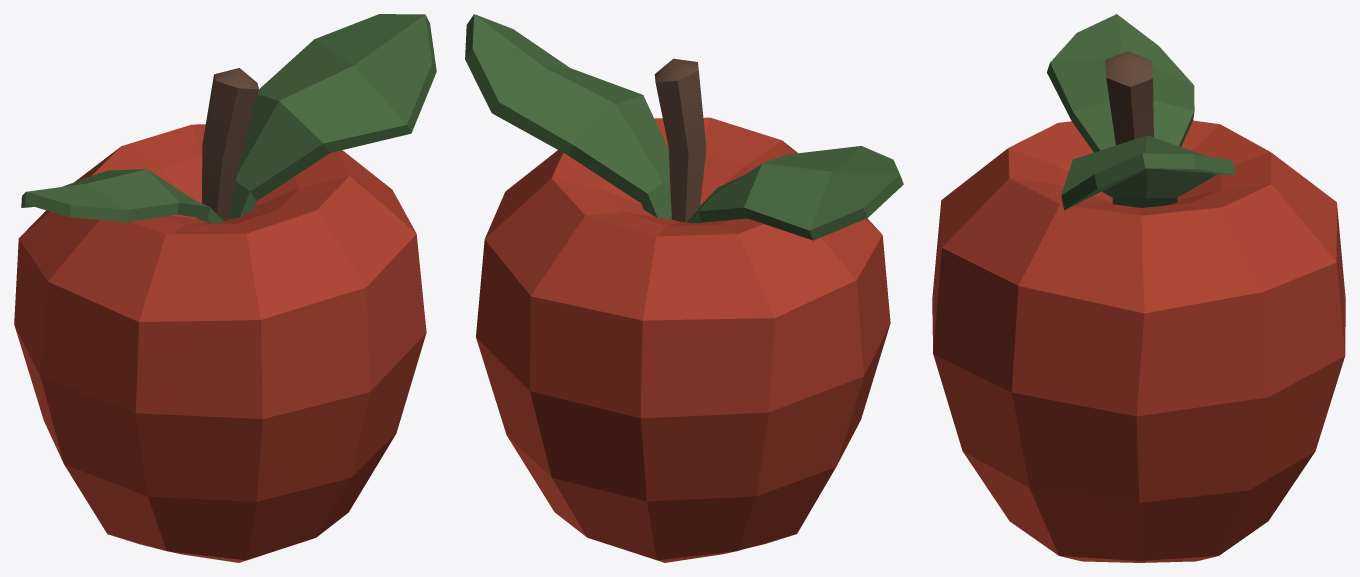
Rendered from SM_Icon_Apple_01.fbx.
3 views of the same model, side by side, from view 1: azimuth 30°, elevation 25°; view 2: azimuth 150°, elevation 25°; view 3: azimuth 270°, elevation 25° (orthographic). The views are drawn at different scales.
Visible parts, largest first — view 1: SM_Icon_Apple_01; view 2: SM_Icon_Apple_01; view 3: SM_Icon_Apple_01.
Part boxes in pixels (x1,y1,x2,y2): SM_Icon_Apple_01: (14, 14, 436, 562); SM_Icon_Apple_01: (465, 14, 903, 562); SM_Icon_Apple_01: (932, 14, 1345, 562).
Size of the model in its own units: 61.18 by 63.85 by 49.74.
